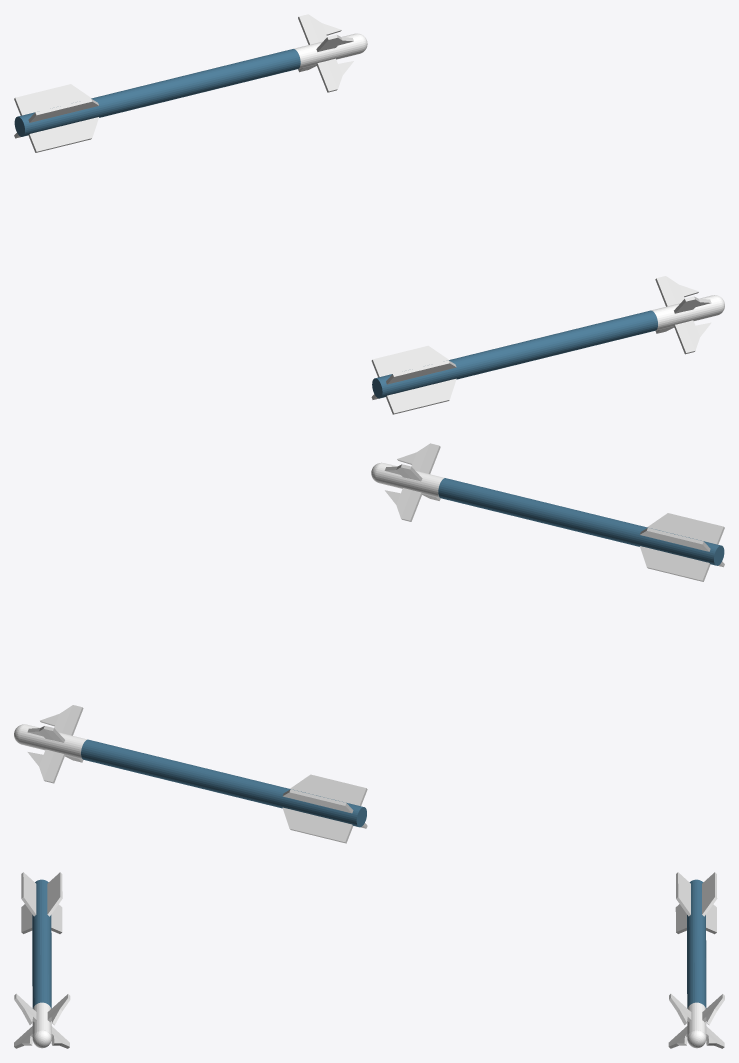
File: aam3uf2a34.glb
3 views of the same model, one above another, from view 1: azimuth 30°, elevation 25°; view 2: azimuth 150°, elevation 25°; view 3: azimuth 270°, elevation 25° (orthographic). The views are drawn at different scales.
Visible parts, largest first — view 1: 球.003, 球.001; view 2: 球.003, 球.001; view 3: 球.003, 球.001.
Part boxes in pixels (left/top/right/bottom): 球.003: left=371, top=276, right=724, bottom=414; 球.001: left=14, top=14, right=367, bottom=152; 球.003: left=371, top=443, right=724, bottom=581; 球.001: left=14, top=705, right=367, bottom=843; 球.003: left=14, top=872, right=70, bottom=1048; 球.001: left=668, top=872, right=724, bottom=1048.
Size of the model in its own units: 4.05 by 0.6241 by 7.85.
